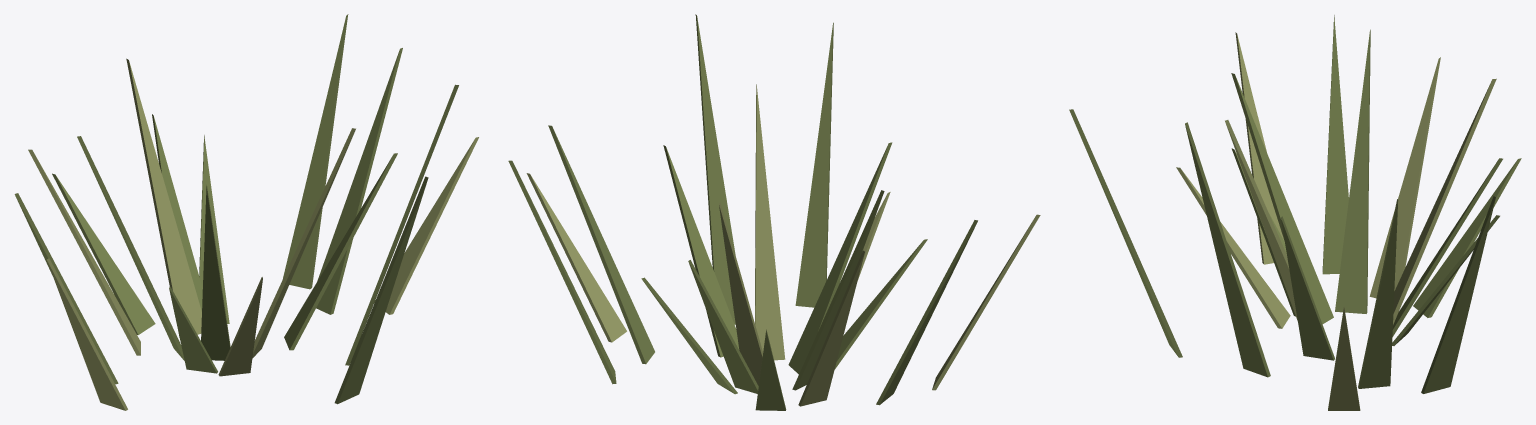
File: SM_QD_Veg_MondoGrass.fbx
3 views of the same model, side by side, from view 1: azimuth 30°, elevation 25°; view 2: azimuth 150°, elevation 25°; view 3: azimuth 270°, elevation 25° (orthographic). The views are drawn at different scales.
Visible parts, largest first — view 1: SM_QD_Veg_MondoGrass; view 2: SM_QD_Veg_MondoGrass; view 3: SM_QD_Veg_MondoGrass.
Part boxes in pixels (box(x1,y1,x2,y2)): SM_QD_Veg_MondoGrass: box(14, 14, 478, 410); SM_QD_Veg_MondoGrass: box(508, 14, 1040, 410); SM_QD_Veg_MondoGrass: box(1069, 15, 1521, 410).
Bounding box in the file's own units: 0.7744 × 0.6175 × 0.4288.
Materials: 1 (1 with a texture image).
